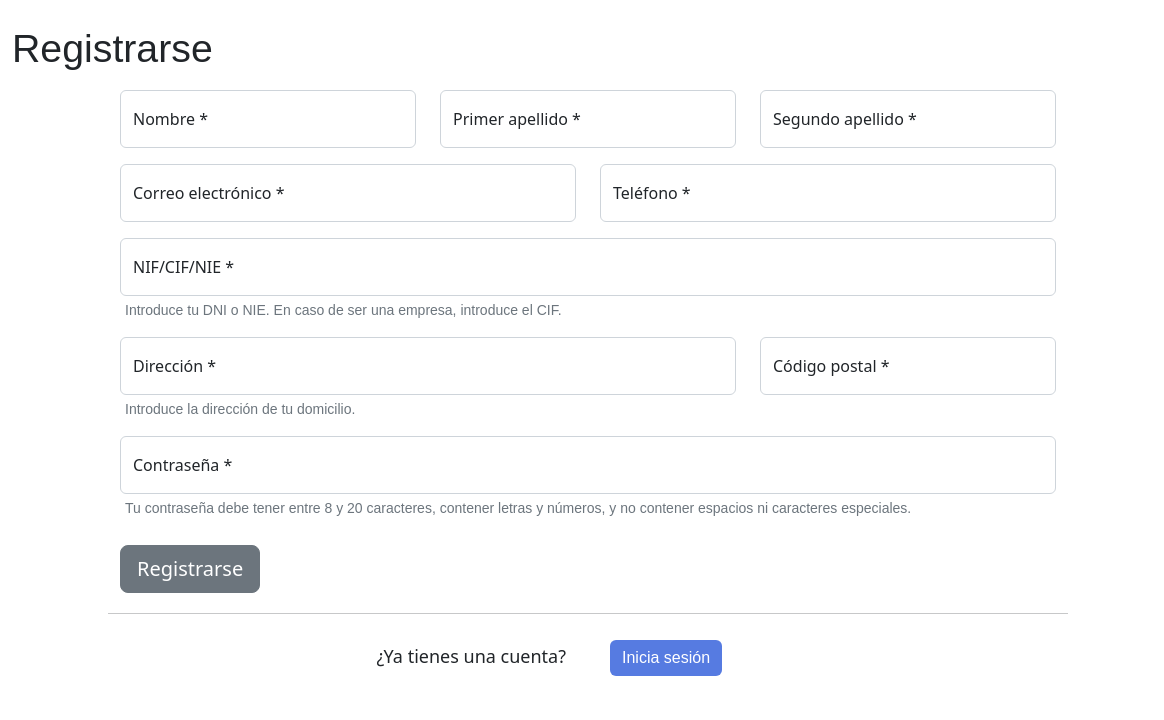
Test: Signup › Muestra el mensaje de alerta (El email o el DNI introducido ya está registrado.) cuando se introduce un email que ya está registrado.
Expected: the button "Registrarse" is shown, [120,545,260,593]
Type "c100@email.com" into the field labelled "Correo electrónico *".
click(348, 193); type("c100@email.com")  # box [120,164,576,222]
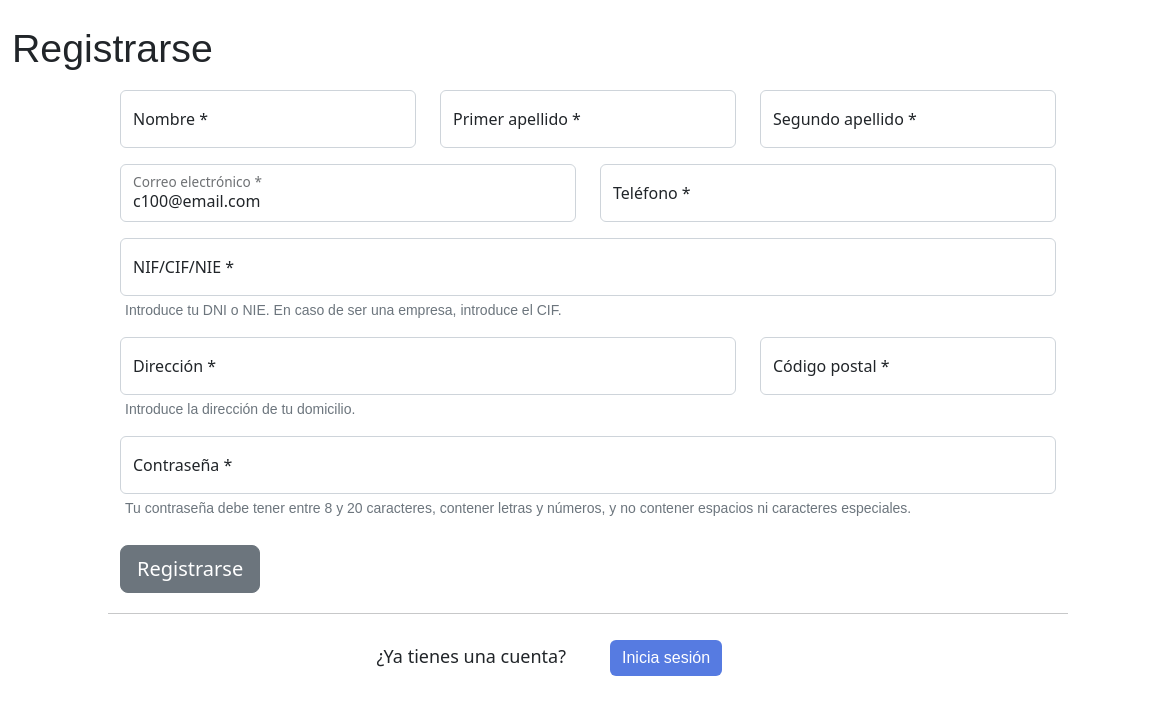
Click the button "Registrarse".
click(190, 569)  # box [120,545,260,593]
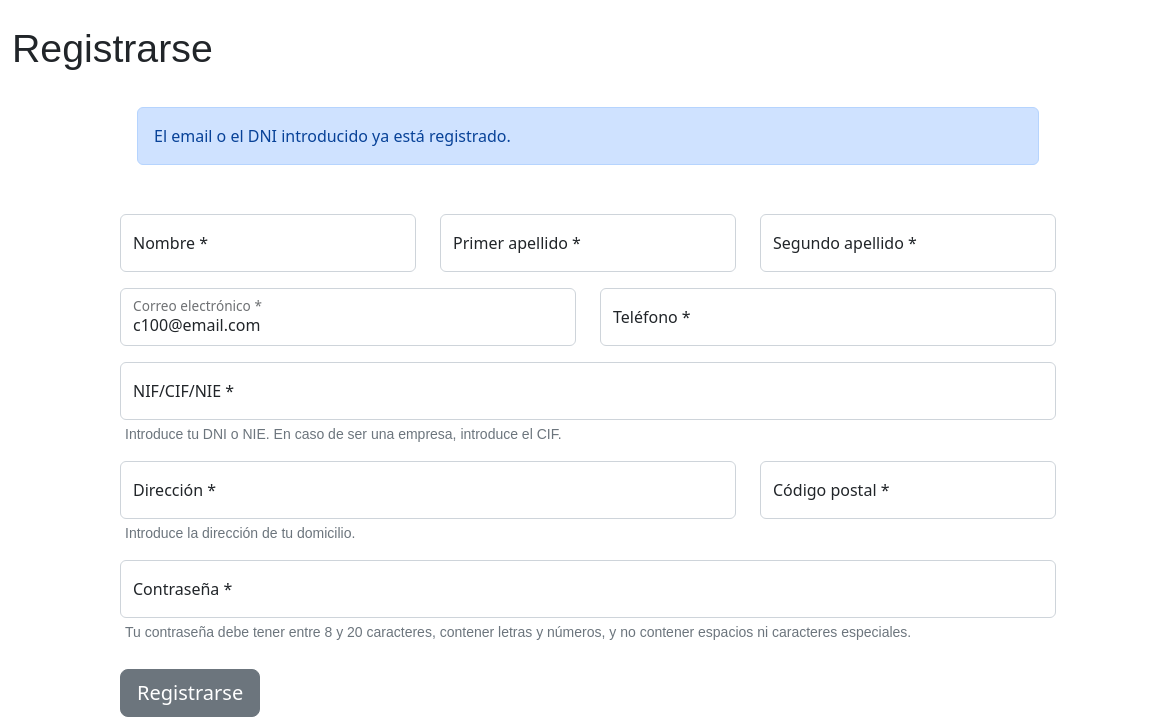
Expected: the text "El email o el DNI introducido ya está registrado." is shown, [137,107,1039,165]
